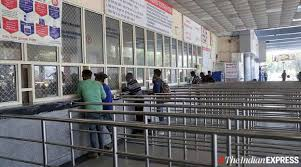mask: (125, 72, 135, 83), (153, 68, 160, 79), (191, 70, 195, 77)
